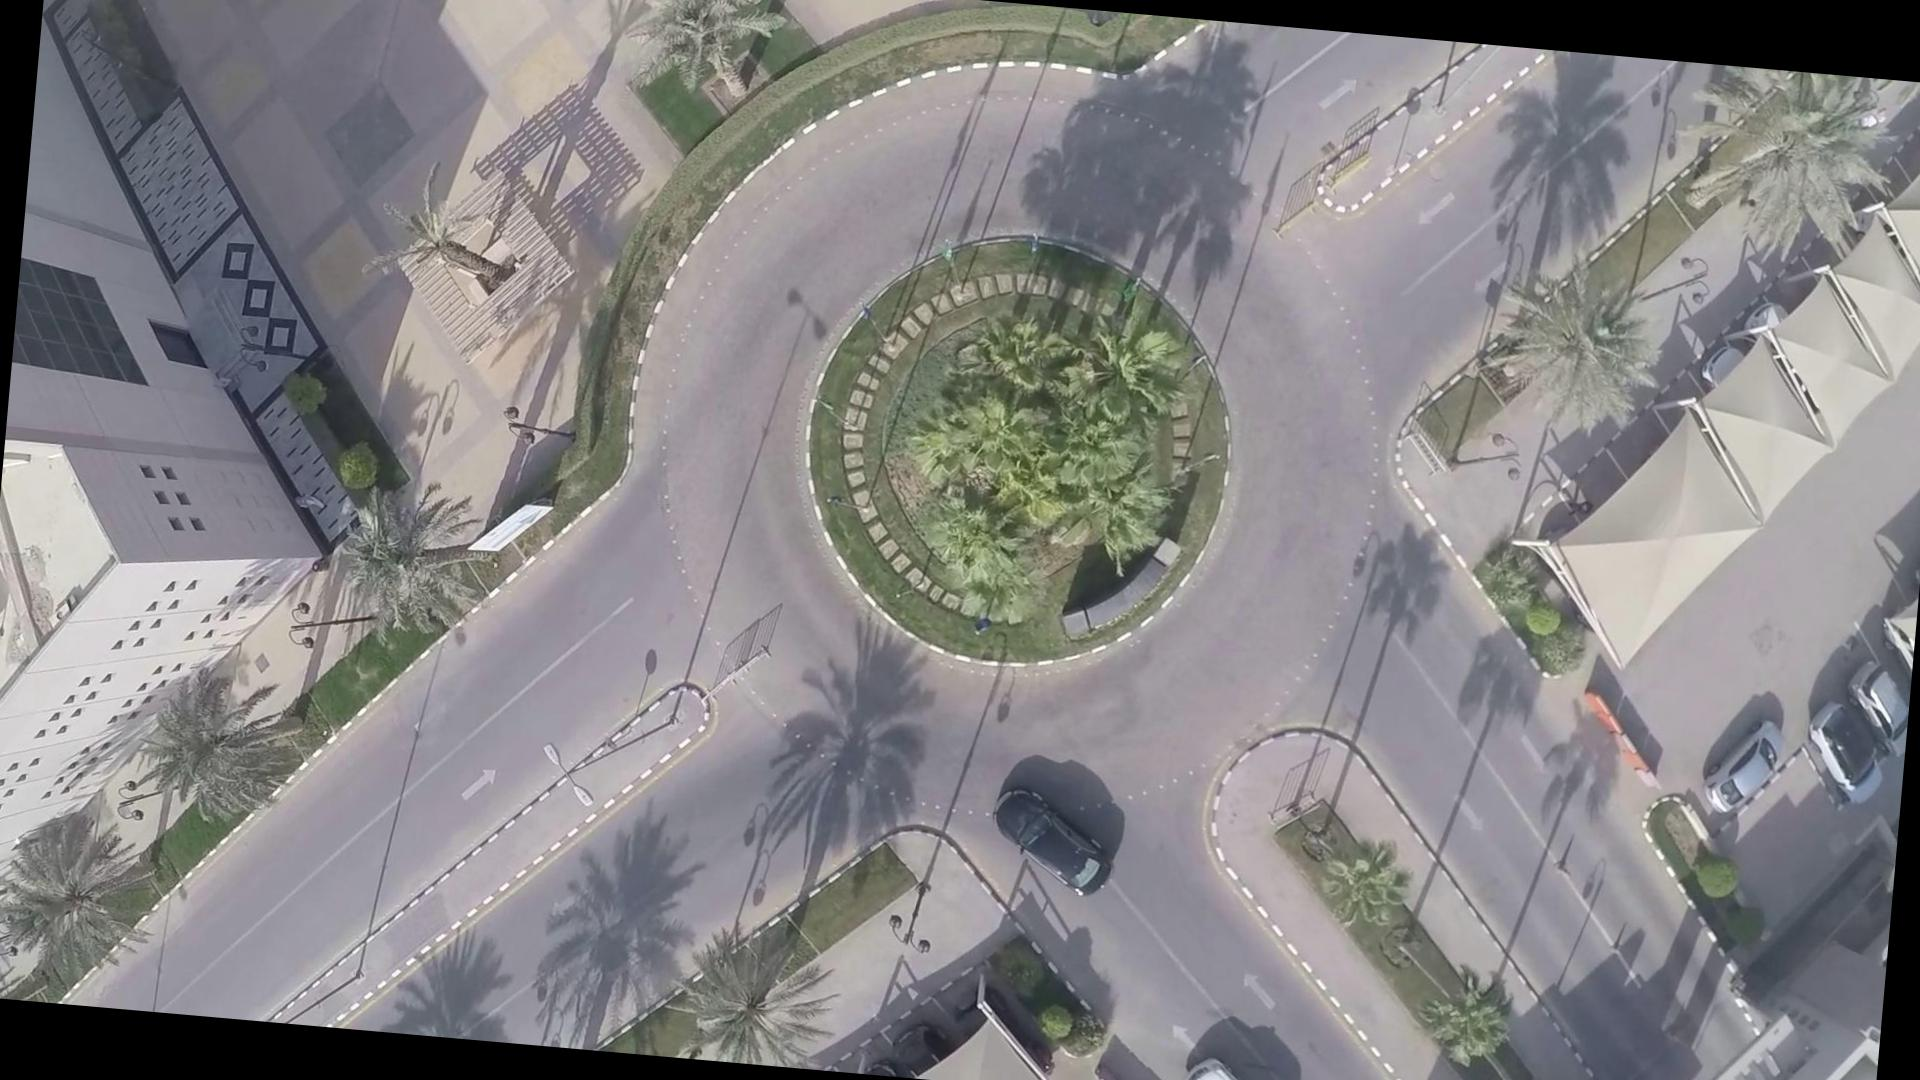vehicle: (978, 765, 1116, 909), (1702, 703, 1788, 828), (1807, 696, 1874, 819)
